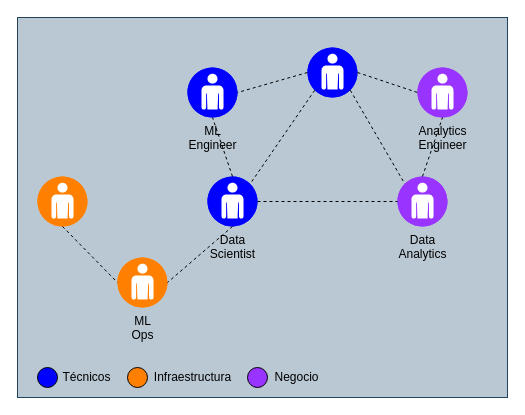
Image size: 525x415. Some labels were removed from this diagram. Each missing label, with the box of its shape:
Data Engineer: (306, 46, 358, 98)
DevOps: (36, 176, 88, 226)
